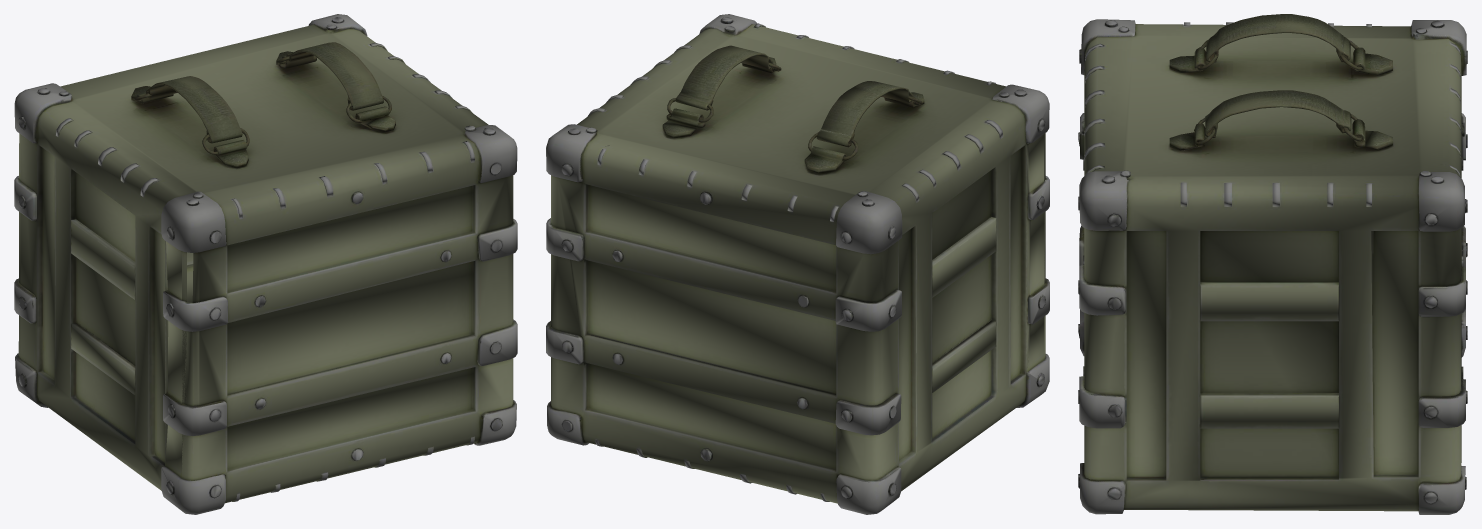
Rendered from crate.glb.
3 renders of one model, left to right at view 1: azimuth 30°, elevation 25°; view 2: azimuth 150°, elevation 25°; view 3: azimuth 270°, elevation 25°, orthographic. The views are drawn at different scales.
Parts seen in each view (by area): view 1: tripo_node_b37dc43d-f9fb-412a-8247-c4e33e7651f7; view 2: tripo_node_b37dc43d-f9fb-412a-8247-c4e33e7651f7; view 3: tripo_node_b37dc43d-f9fb-412a-8247-c4e33e7651f7.
Part boxes in pixels (x1=…): tripo_node_b37dc43d-f9fb-412a-8247-c4e33e7651f7: x1=14, y1=14, x2=517, y2=514; tripo_node_b37dc43d-f9fb-412a-8247-c4e33e7651f7: x1=546, y1=14, x2=1049, y2=514; tripo_node_b37dc43d-f9fb-412a-8247-c4e33e7651f7: x1=1078, y1=14, x2=1467, y2=514.
Size of the model in its own units: 0.5141 by 0.5 by 0.4718.
1 material, 1 textured.
